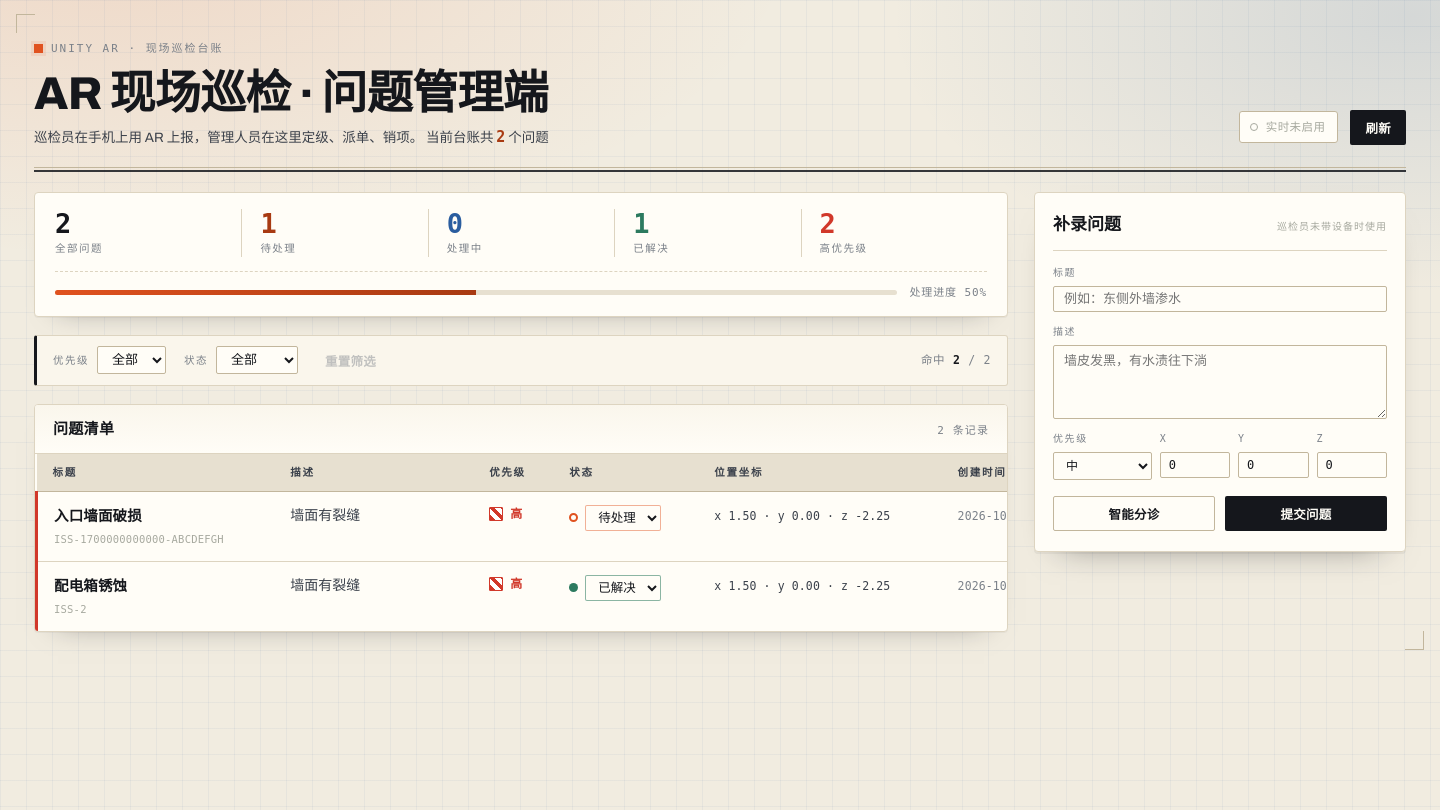
App › 可以按状态筛选
Expected: the text "入口墙面破损" is shown, [54, 508, 142, 524]
Select "已解决" in the dropdown named "按状态筛选" at (257, 360), box [216, 346, 298, 374]
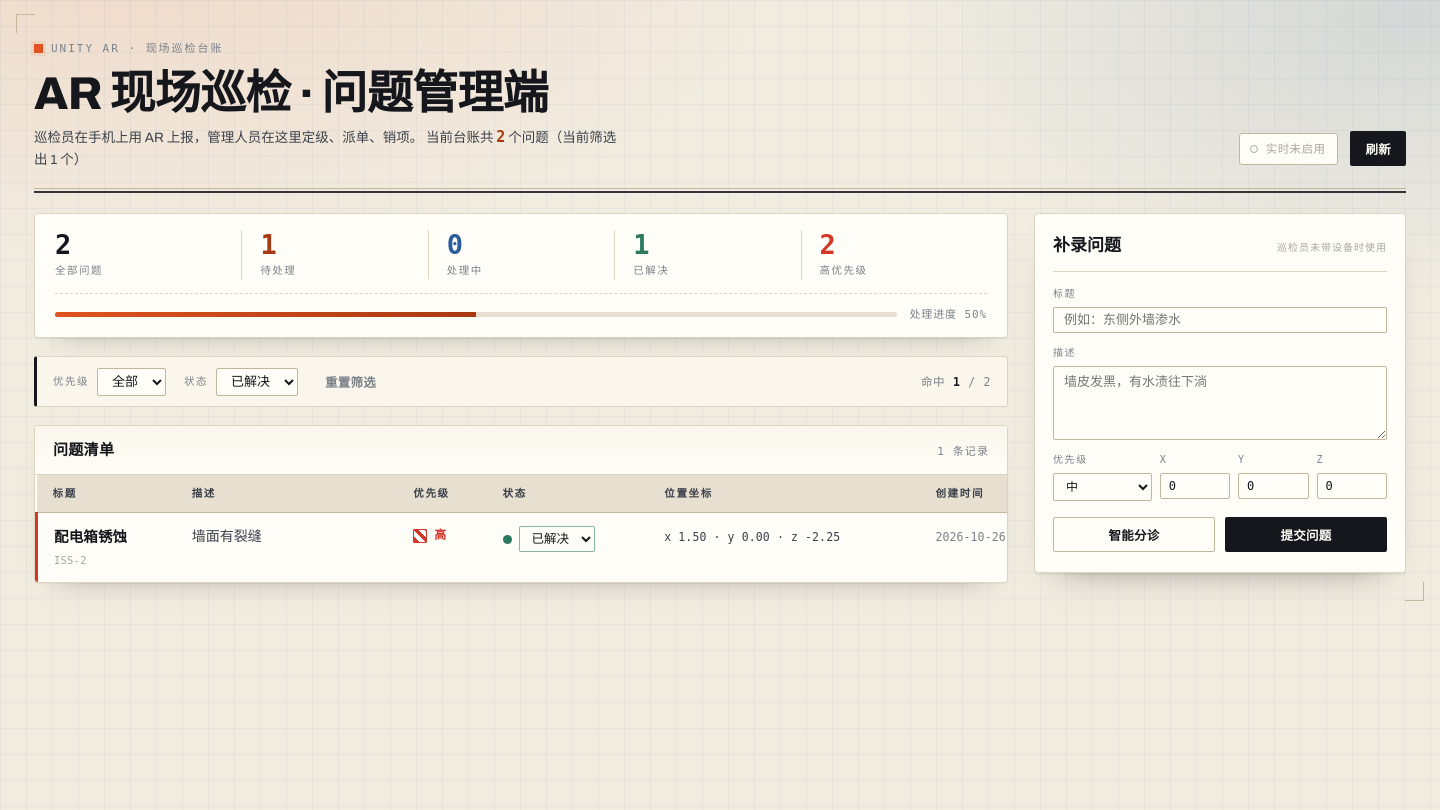
Expected: the text "配电箱锈蚀" is shown, [54, 529, 127, 545]
Expected: the text "入口墙面破损" is gone
